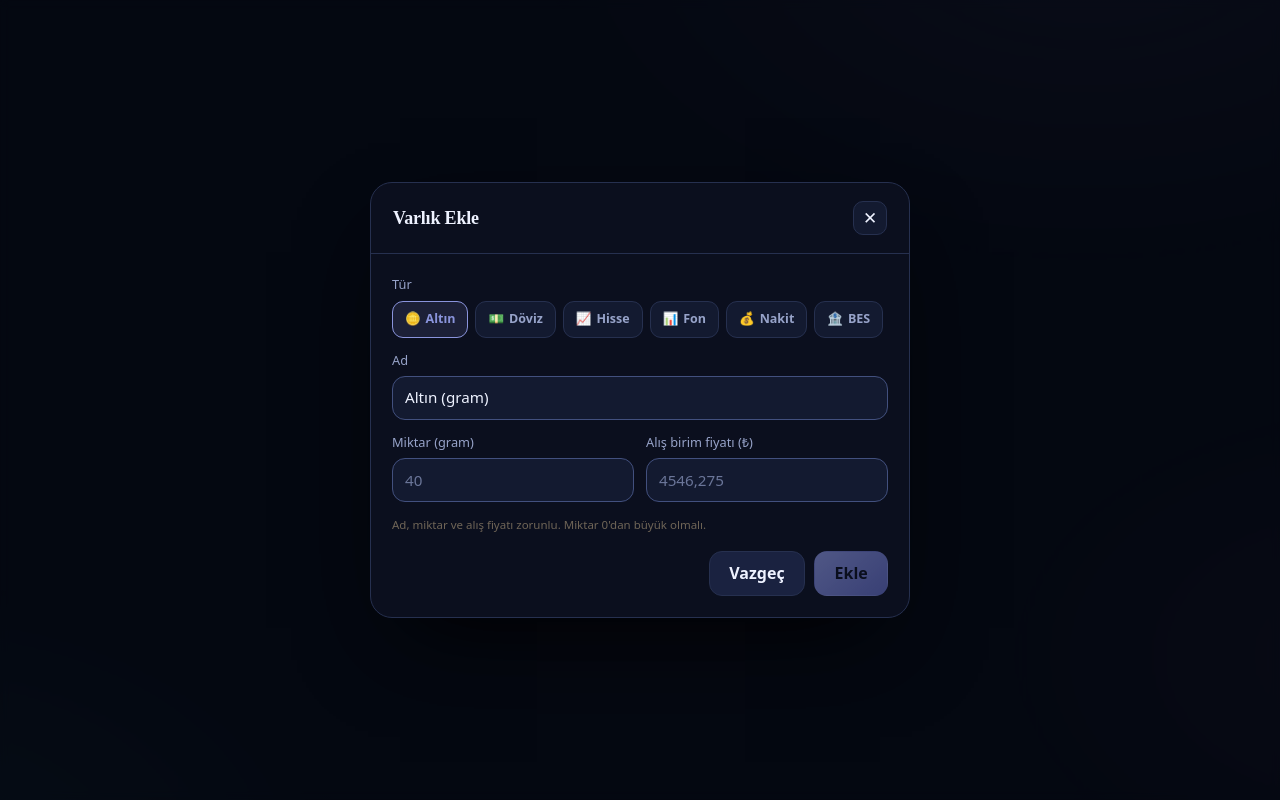
Test: AddHoldingDialog › eksik zorunlu alanla Ekle butonu pasif + türe uygun ipucu görünür
expect the button "Ekle" is disabled: met, box [814,551,888,596]
expect the text "miktar ve alış fiyatı zorunlu" is shown: met, box [392,517,706,532]
Click the radio button labelled "💰 Nakit" at point(767, 319), box [726,301,807,338]
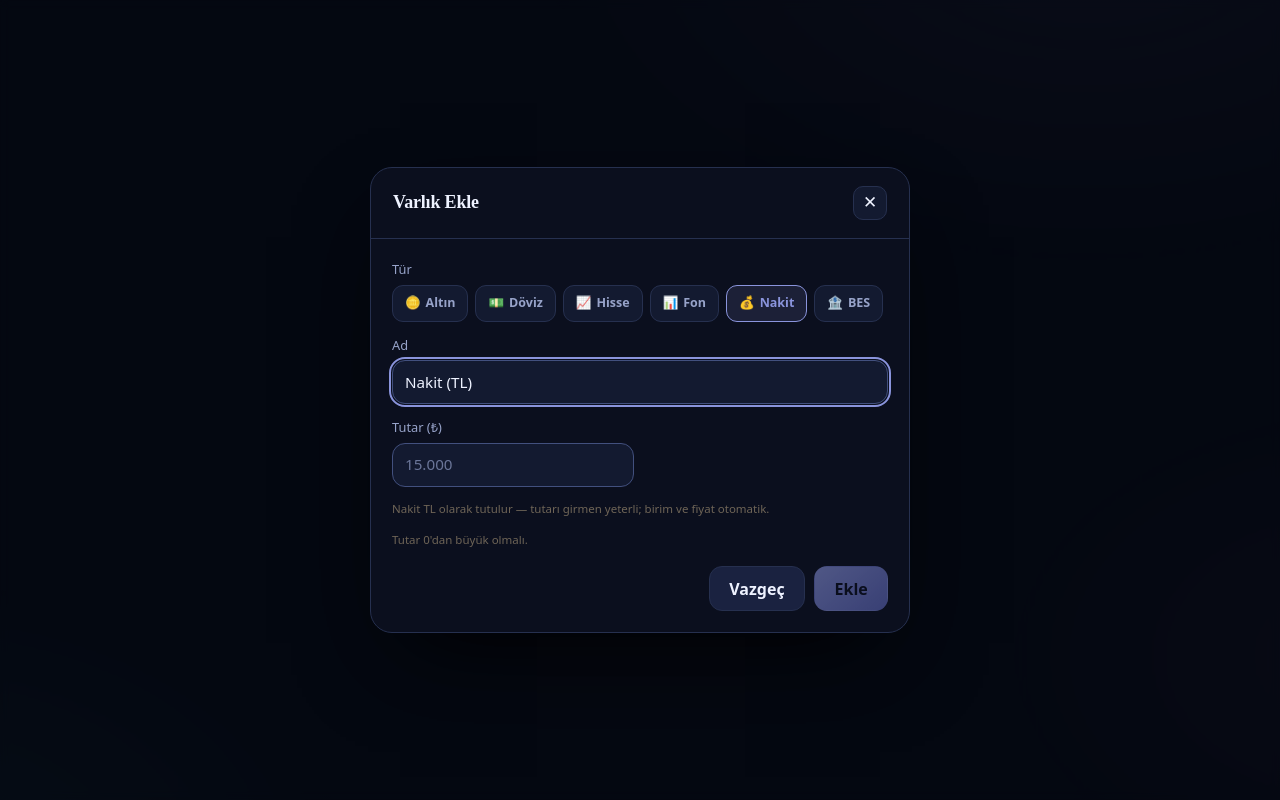
expect the text "Tutar 0'dan büyük olmalı." is shown: met, box [392,532,528,547]
